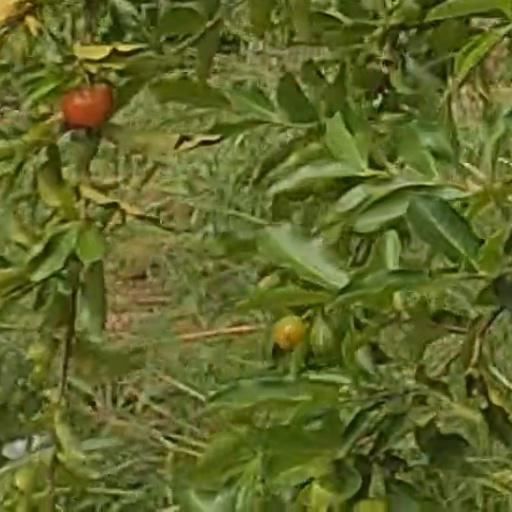acerola: (65, 84, 112, 126), (271, 316, 305, 349)
